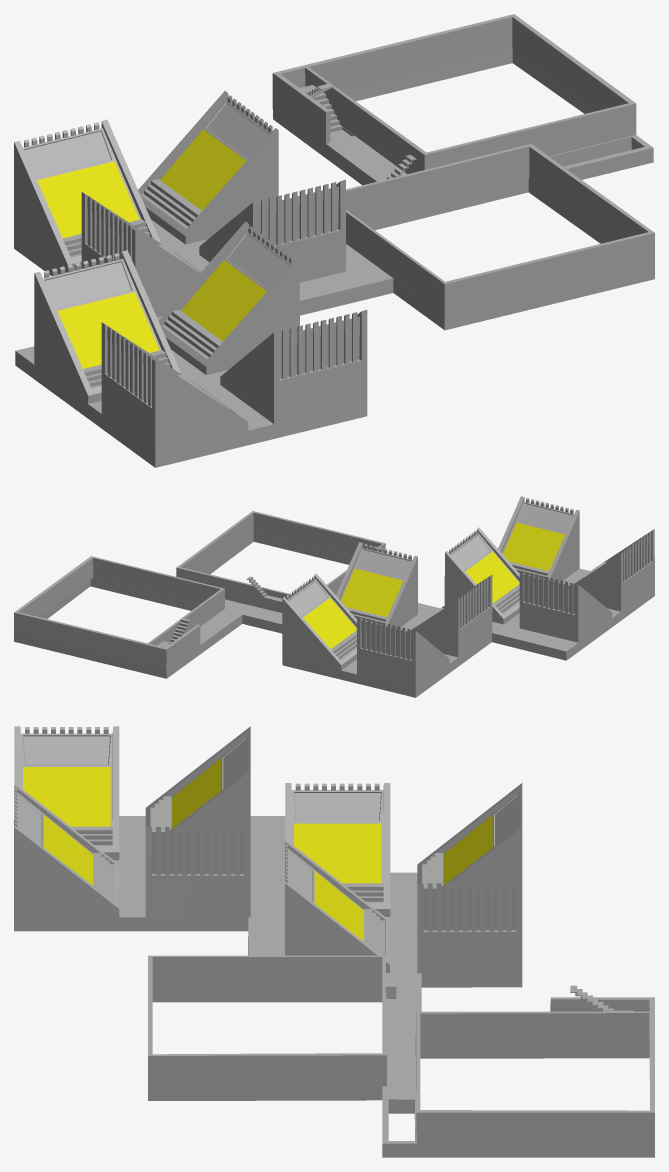
File: piso5.fbx
3 views of the same model, one above another, from view 1: azimuth 30°, elevation 25°; view 2: azimuth 150°, elevation 25°; view 3: azimuth 270°, elevation 25° (orthographic). The views are drawn at different scales.
Visible parts, largest first — view 1: piso_0_5; view 2: piso_0_5; view 3: piso_0_5.
Boxes of the visible parts, bbox=[...] form: piso_0_5: bbox=[14, 14, 654, 467]; piso_0_5: bbox=[14, 496, 654, 697]; piso_0_5: bbox=[14, 726, 654, 1157].
Bounding box in the file's own units: 6714 × 995 × 5553.
Materials: 1 (1 with a texture image).
